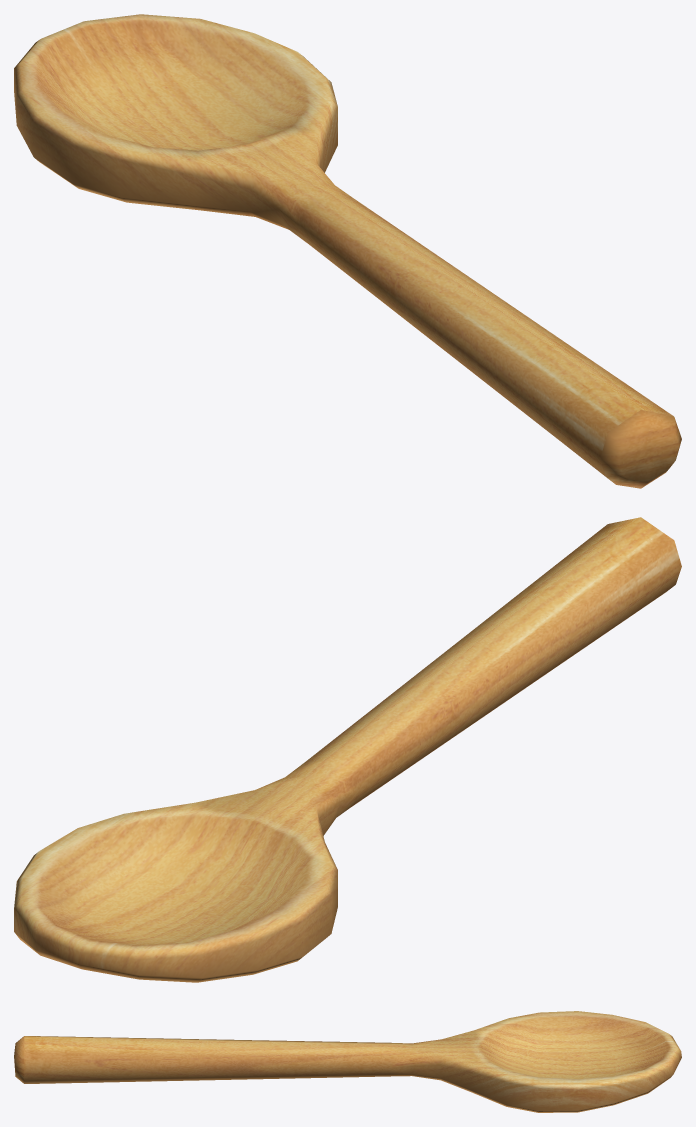
File: Spoon_Wooden_02.fbx
3 renders of one model, top to bottom at view 1: azimuth 30°, elevation 25°; view 2: azimuth 150°, elevation 25°; view 3: azimuth 270°, elevation 25°, orthographic. The views are drawn at different scales.
Parts seen in each view (by area): view 1: Spoon_Wooden_02; view 2: Spoon_Wooden_02; view 3: Spoon_Wooden_02.
Part boxes in pixels (left/top/right/bottom): Spoon_Wooden_02: left=14, top=14, right=681, bottom=488; Spoon_Wooden_02: left=14, top=517, right=681, bottom=982; Spoon_Wooden_02: left=14, top=1011, right=681, bottom=1112.
Size of the model in its own units: 29.64 by 8.3 by 109.
